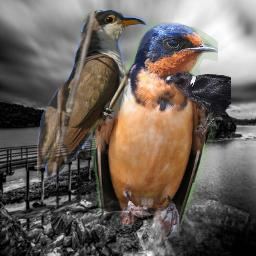Crow: (164, 71, 231, 137)
Cuckoo: (37, 10, 173, 181)
Swallow: (91, 22, 218, 240)
